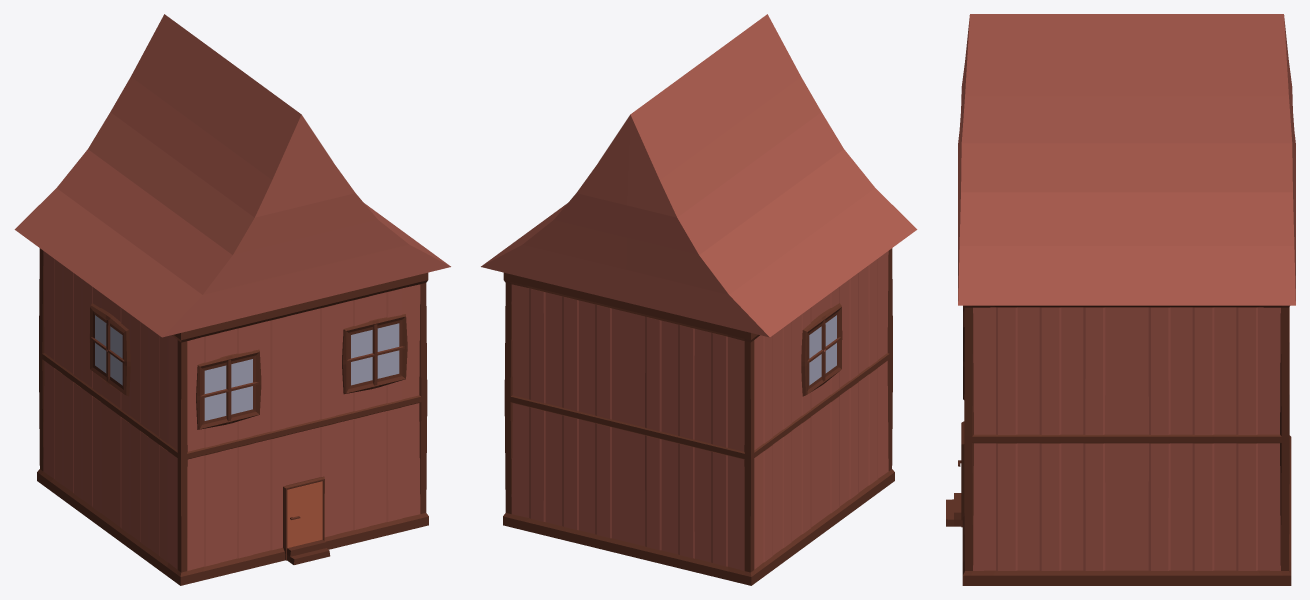
Rendered from FactoresisHouse.fbx.
The picture shows the model from 3 angles, left to right: view 1: azimuth 30°, elevation 25°; view 2: azimuth 150°, elevation 25°; view 3: azimuth 270°, elevation 25°; orthographic projection. The views are drawn at different scales.
Parts seen in each view (by area): view 1: House; view 2: House; view 3: House.
Part boxes in pixels (x1,y1,x2,y2): House: [14, 14, 450, 585]; House: [481, 14, 917, 585]; House: [946, 14, 1295, 585].
Size of the model in its own units: 119 by 172 by 109.
